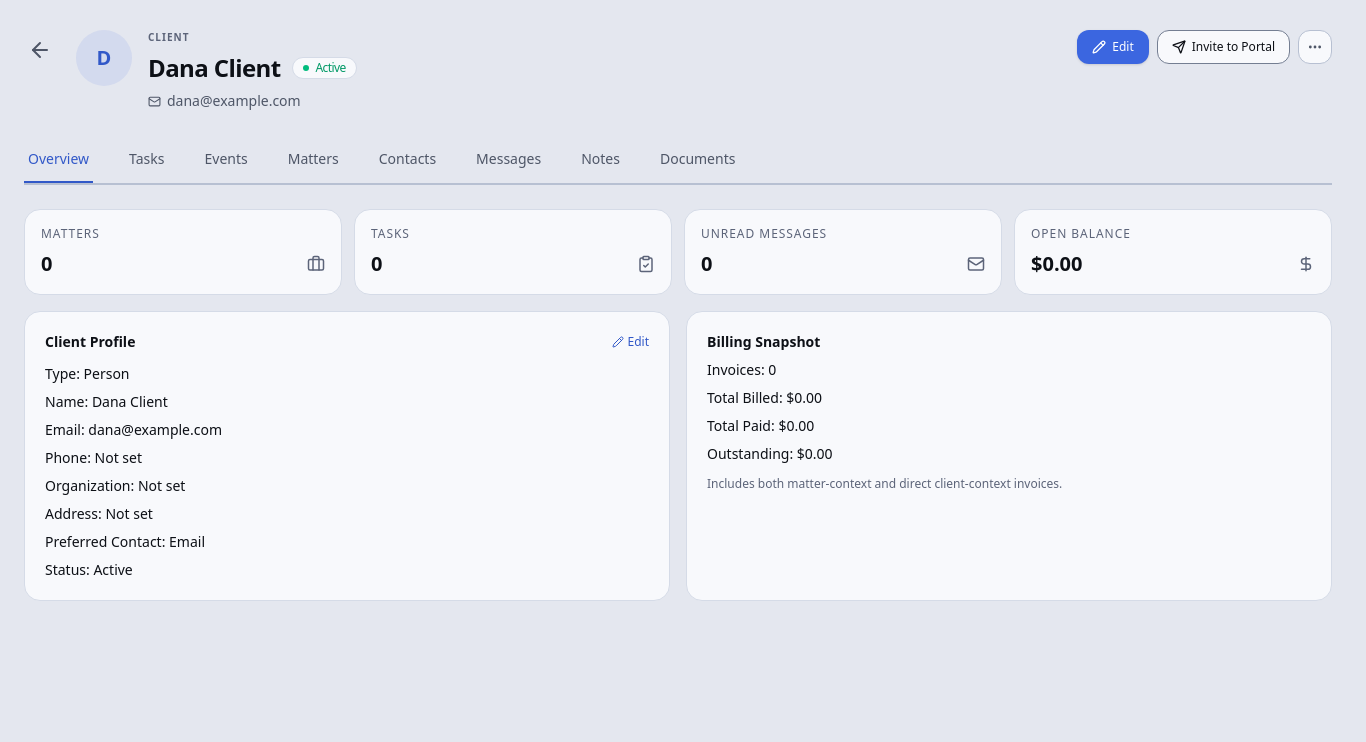
Test case: notes on a client › offers no time controls to a member who can manage clients but not time entries
This screenshot has width=1366, height=742.
Expected: the heading "Dana Client Active" is shown, [148,51,357,84]
Click the button "Notes". click: click(601, 160)
box: [577,137,624,183]
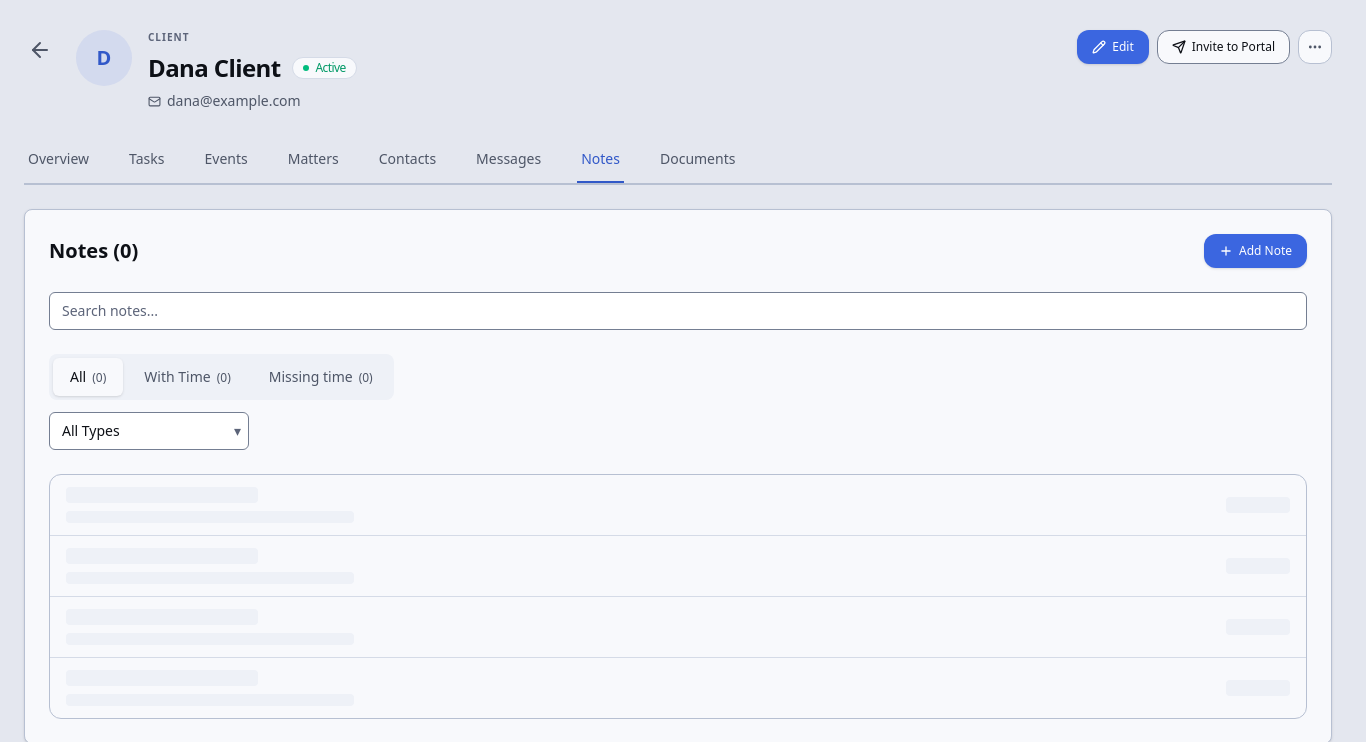
Click the button "Add Note". click: click(1256, 251)
box: [1204,234,1307,268]
(page scrolled)
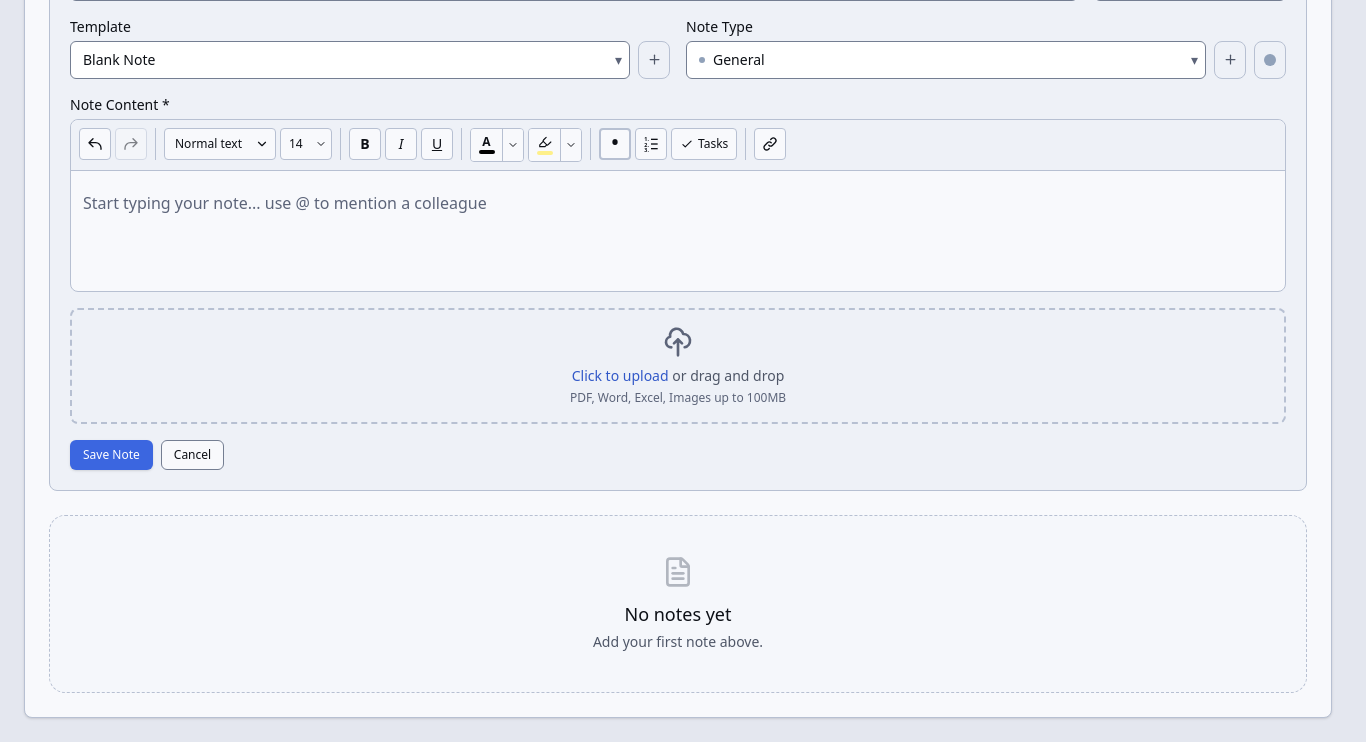
Expected: the button "Save Note" is shown, [70,440,153,470]
